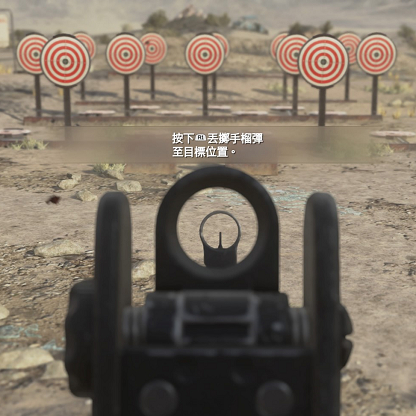target: (40, 34, 92, 90), (297, 34, 349, 89), (354, 32, 395, 76), (184, 32, 224, 75), (105, 32, 144, 75), (15, 32, 38, 75), (274, 33, 296, 77)
